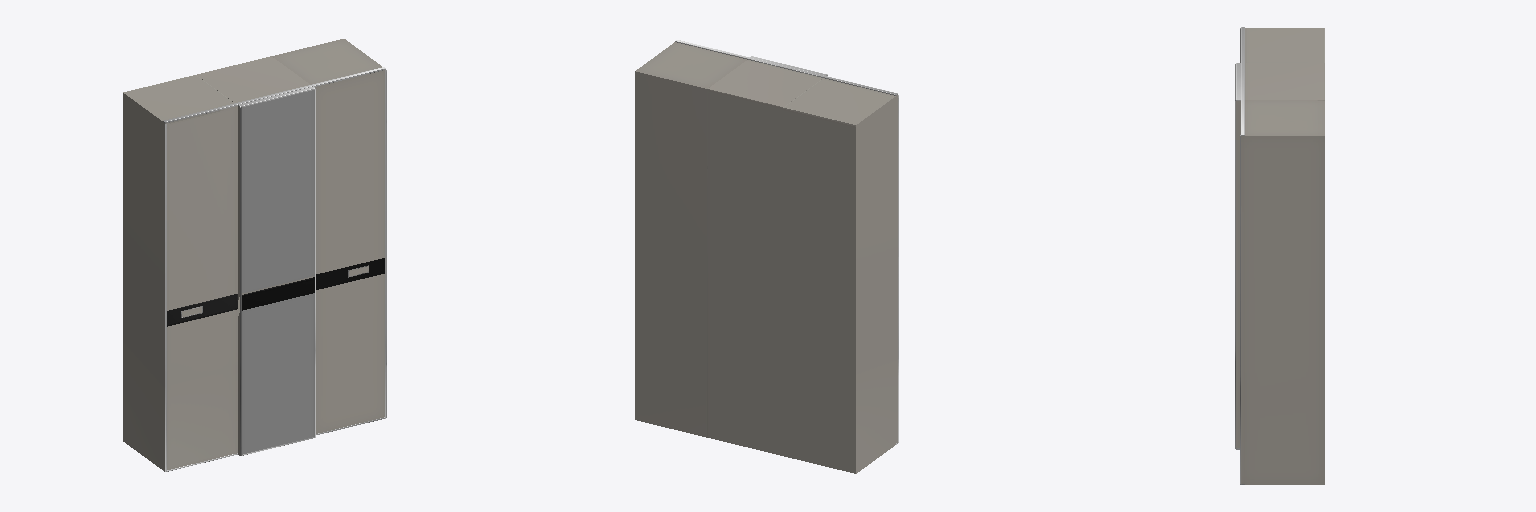
3 renders of one model, left to right at view 1: azimuth 30°, elevation 25°; view 2: azimuth 150°, elevation 25°; view 3: azimuth 270°, elevation 25°, orthographic.
Visible parts, largest first — view 1: solid_007, solid_005, solid_006, solid_004, solid_003, solid_002; view 2: solid_006, solid_004; view 3: solid_006, solid_004.
Boxes of the visible parts, x1=… form: solid_007: x1=166, y1=70, x2=384, y2=469; solid_005: x1=242, y1=90, x2=314, y2=454; solid_006: x1=123, y1=39, x2=381, y2=470; solid_004: x1=163, y1=67, x2=386, y2=471; solid_003: x1=167, y1=258, x2=384, y2=326; solid_002: x1=242, y1=277, x2=314, y2=310; solid_006: x1=635, y1=42, x2=897, y2=473; solid_004: x1=675, y1=40, x2=898, y2=444; solid_006: x1=1236, y1=28, x2=1324, y2=484; solid_004: x1=1235, y1=27, x2=1244, y2=484.
Size of the model in its own units: 1.76 by 2.66 by 0.6173.
Materials: 1 (1 with a texture image).